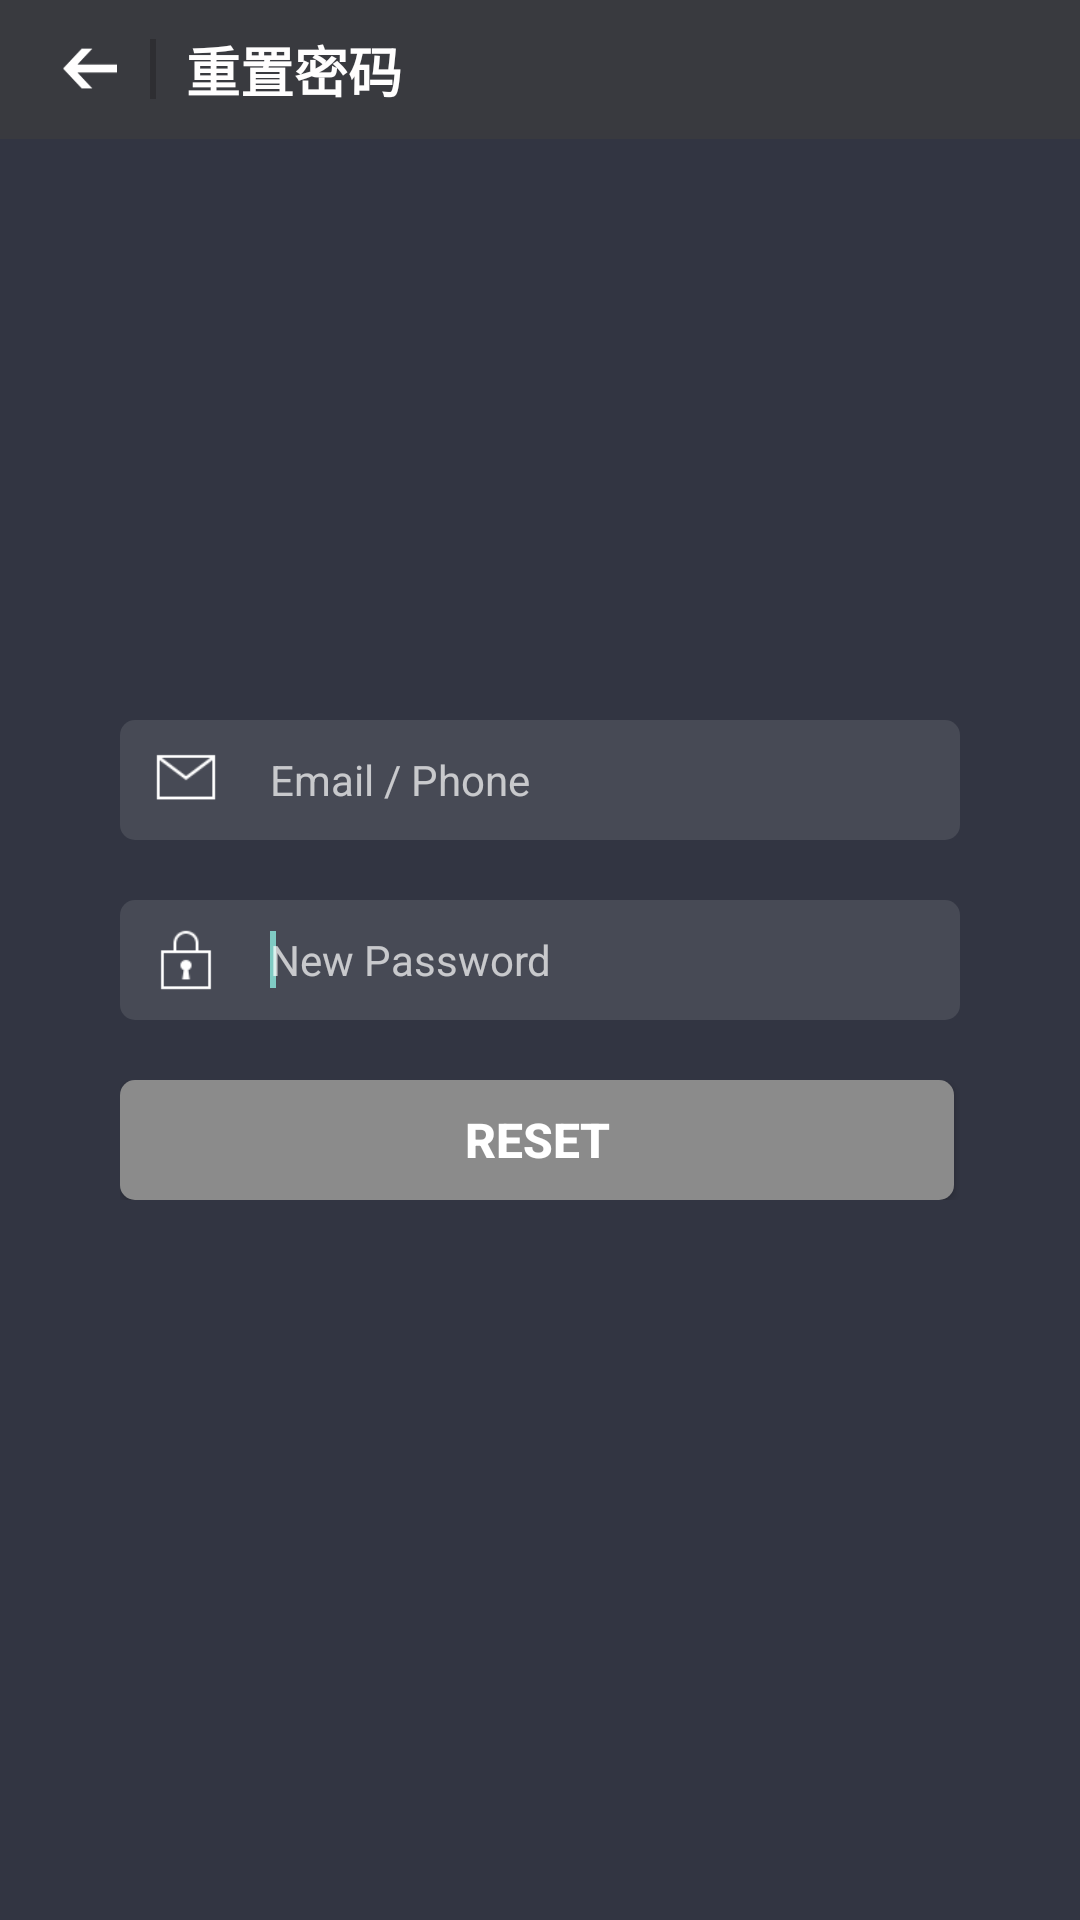

Icon bounding boxes for this 1080*1920 phone screenshot, format region(x1, y1, x2, y2):
back: region(63, 48, 117, 89)
